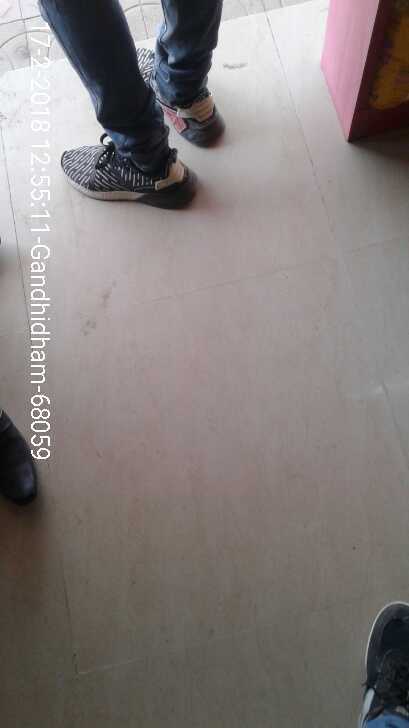reject: (182, 377, 271, 505)
